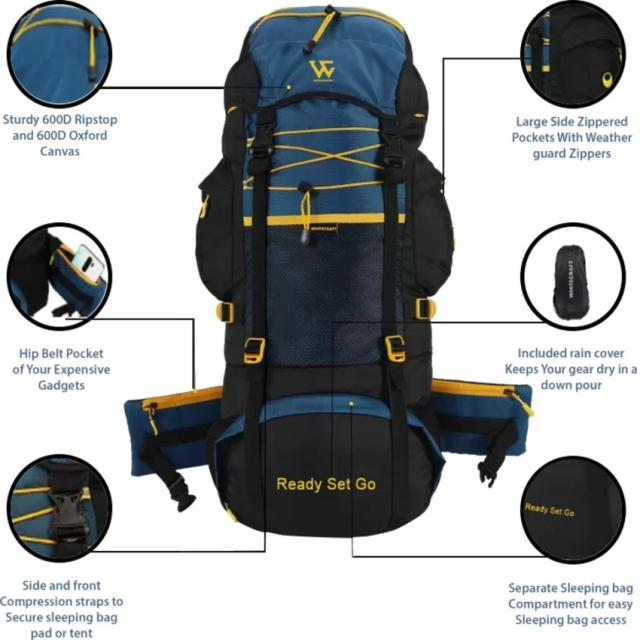backpack: (194, 5, 456, 539)
